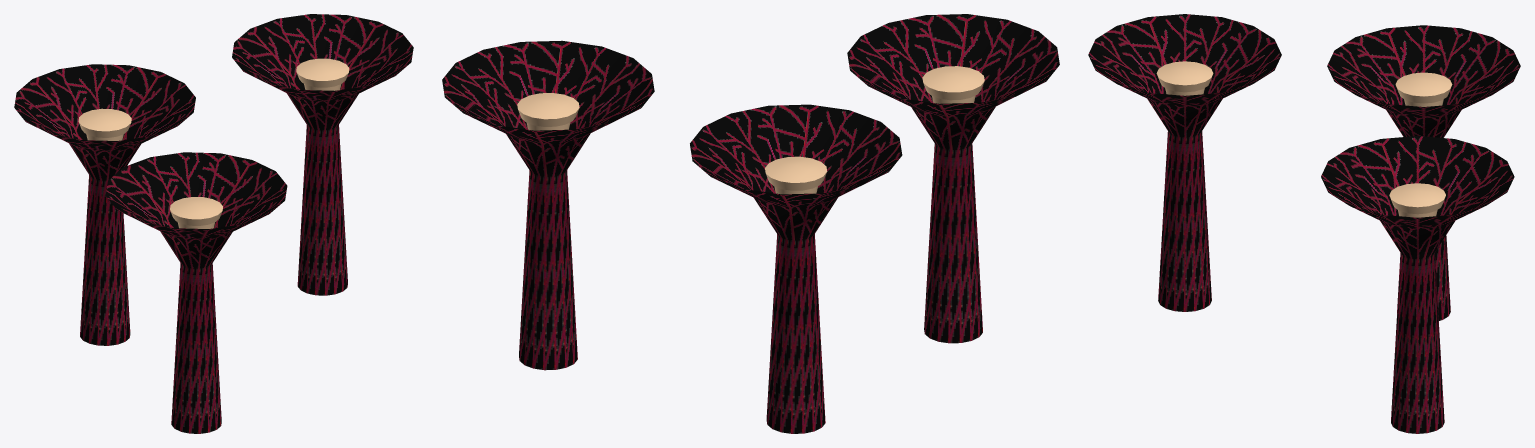
The model's file is supertrees.glb.
The picture shows the model from 3 angles, left to right: view 1: azimuth 30°, elevation 25°; view 2: azimuth 150°, elevation 25°; view 3: azimuth 270°, elevation 25°; orthographic projection. The views are drawn at different scales.
Visible parts, largest first — view 1: Shell.001, Shell.003, Shell.002, Inner.001, Inner.002, Inner.003; view 2: Shell.003, Shell.002, Shell.001, Inner.001, Inner.003, Inner.002; view 3: Shell.003, Shell.001, Shell.002, Inner.001, Inner.003, Inner.002.
Boxes of the visible parts, left/top/right/bottom form: Shell.001: left=232, top=14, right=413, bottom=295; Shell.003: left=105, top=152, right=287, bottom=433; Shell.002: left=14, top=64, right=195, bottom=345; Inner.001: left=296, top=58, right=349, bottom=90; Inner.002: left=78, top=108, right=131, bottom=140; Inner.003: left=170, top=197, right=222, bottom=228; Shell.003: left=847, top=14, right=1059, bottom=343; Shell.002: left=690, top=104, right=902, bottom=433; Shell.001: left=442, top=40, right=654, bottom=370; Inner.001: left=517, top=93, right=579, bottom=130; Inner.003: left=922, top=66, right=984, bottom=103; Inner.002: left=765, top=156, right=827, bottom=194; Shell.003: left=1088, top=14, right=1281, bottom=311; Shell.001: left=1321, top=136, right=1514, bottom=433; Shell.002: left=1327, top=25, right=1520, bottom=320; Inner.001: left=1389, top=183, right=1445, bottom=217; Inner.003: left=1156, top=61, right=1213, bottom=95; Inner.002: left=1395, top=72, right=1452, bottom=106.
Bounding box in the file's own units: 44.33 × 24.93 × 39.78.
Materials: 2 (1 with a texture image).
